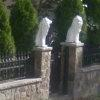Statue: (30, 12, 89, 58)
